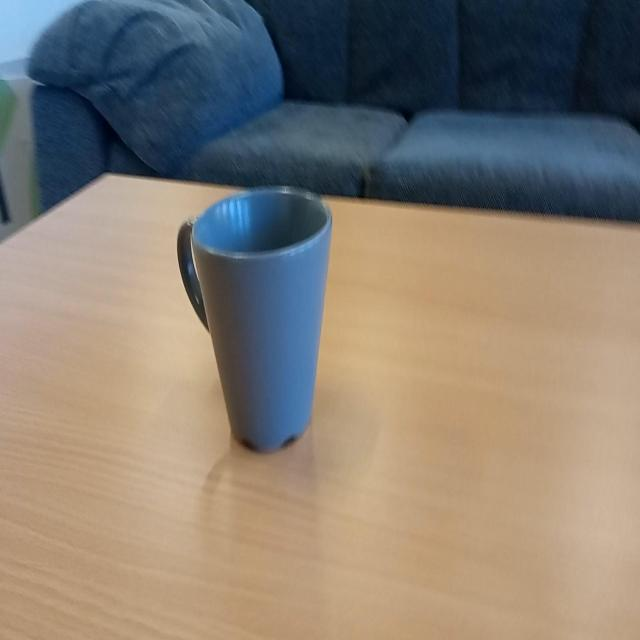cup: (173, 182, 341, 459)
